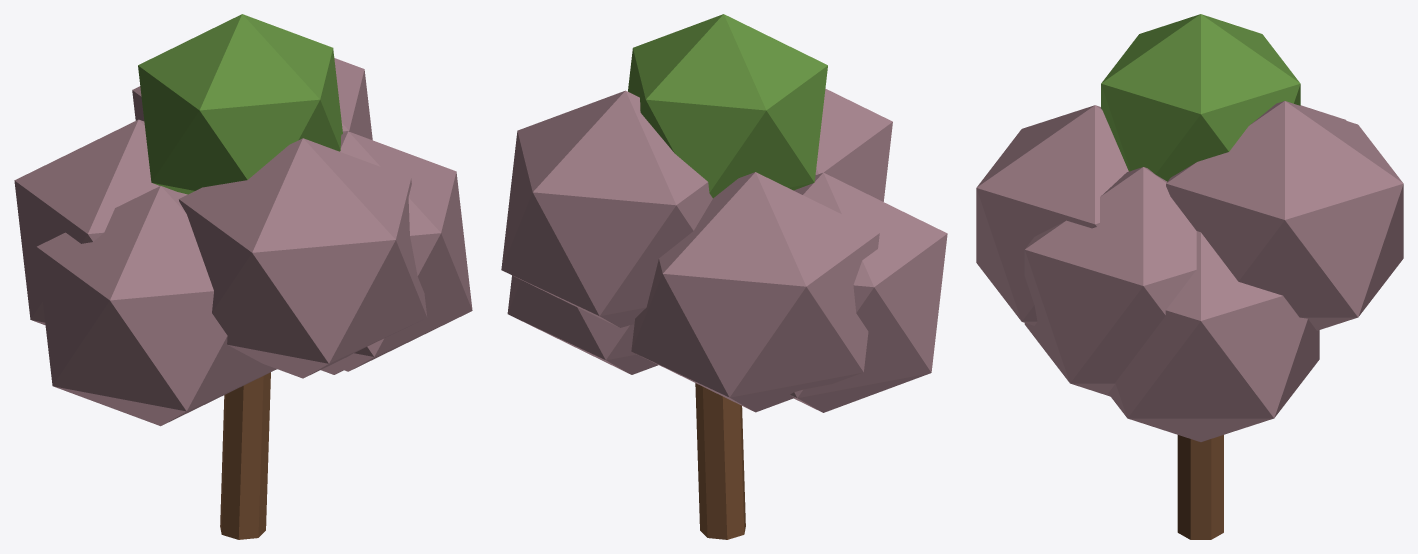
The model's file is tree_28.glb.
The picture shows the model from 3 angles, left to right: view 1: azimuth 30°, elevation 25°; view 2: azimuth 150°, elevation 25°; view 3: azimuth 270°, elevation 25°; orthographic projection.
Visible parts, largest first — view 1: tree_28; view 2: tree_28; view 3: tree_28.
Part boxes in pixels (x1,y1,x2,y2): tree_28: (14,14,472,539); tree_28: (501,14,947,539); tree_28: (976,14,1403,539).
Bounding box in the file's own units: 2.9 × 3.59 × 2.69.
